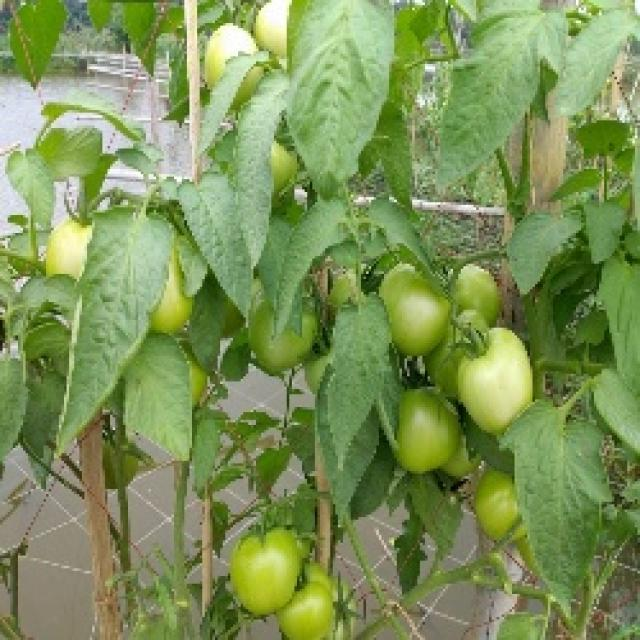tomato: (453, 326, 538, 428), (231, 527, 314, 619), (384, 258, 451, 361), (393, 382, 459, 483), (279, 563, 352, 638), (474, 467, 527, 555), (445, 261, 502, 330), (318, 258, 383, 314), (243, 317, 307, 372), (49, 214, 94, 279), (206, 23, 256, 71), (155, 270, 192, 332), (261, 1, 295, 64), (277, 141, 303, 202)
